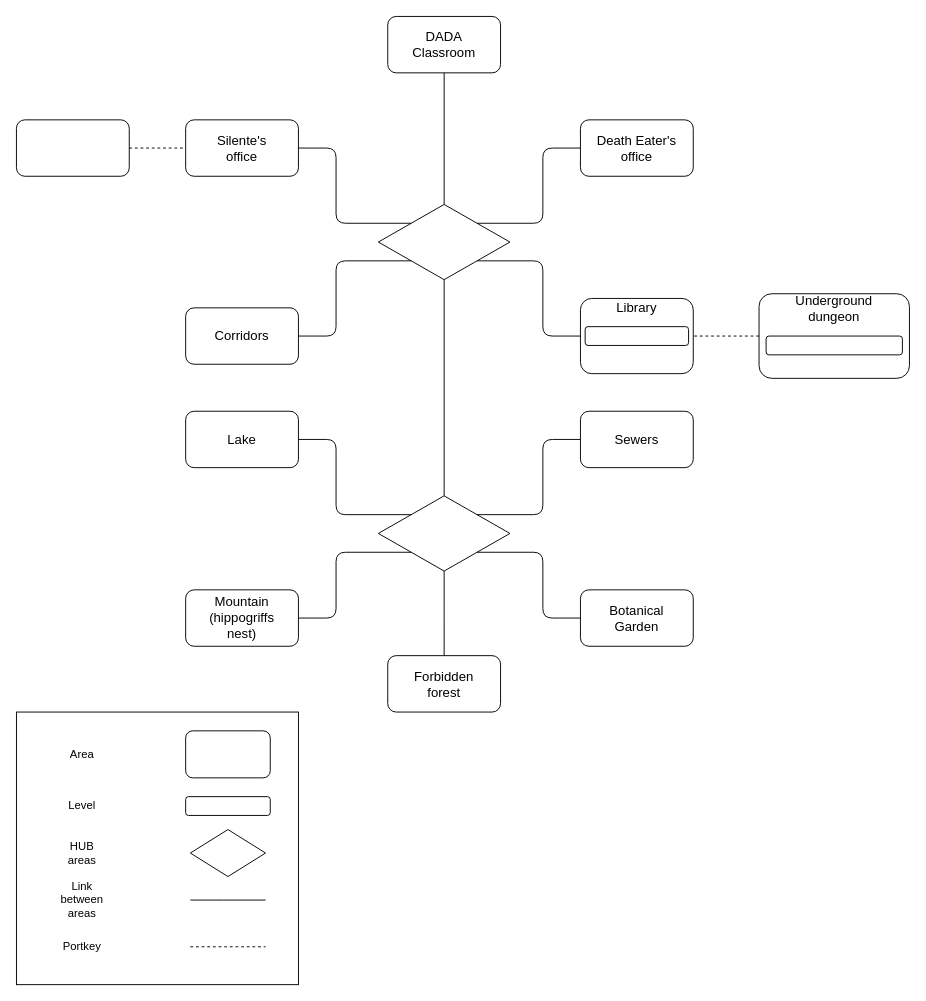
Some shapes in this 926 by 1001 pixel diagram are drawn without their labels. Each missing label, with the box of its shape:
Ministry of Magic: (16, 119, 129, 176)
Outside Castle: (377, 495, 510, 571)
Overgrown monsters: (765, 335, 902, 355)
Stairs: (377, 204, 510, 280)
